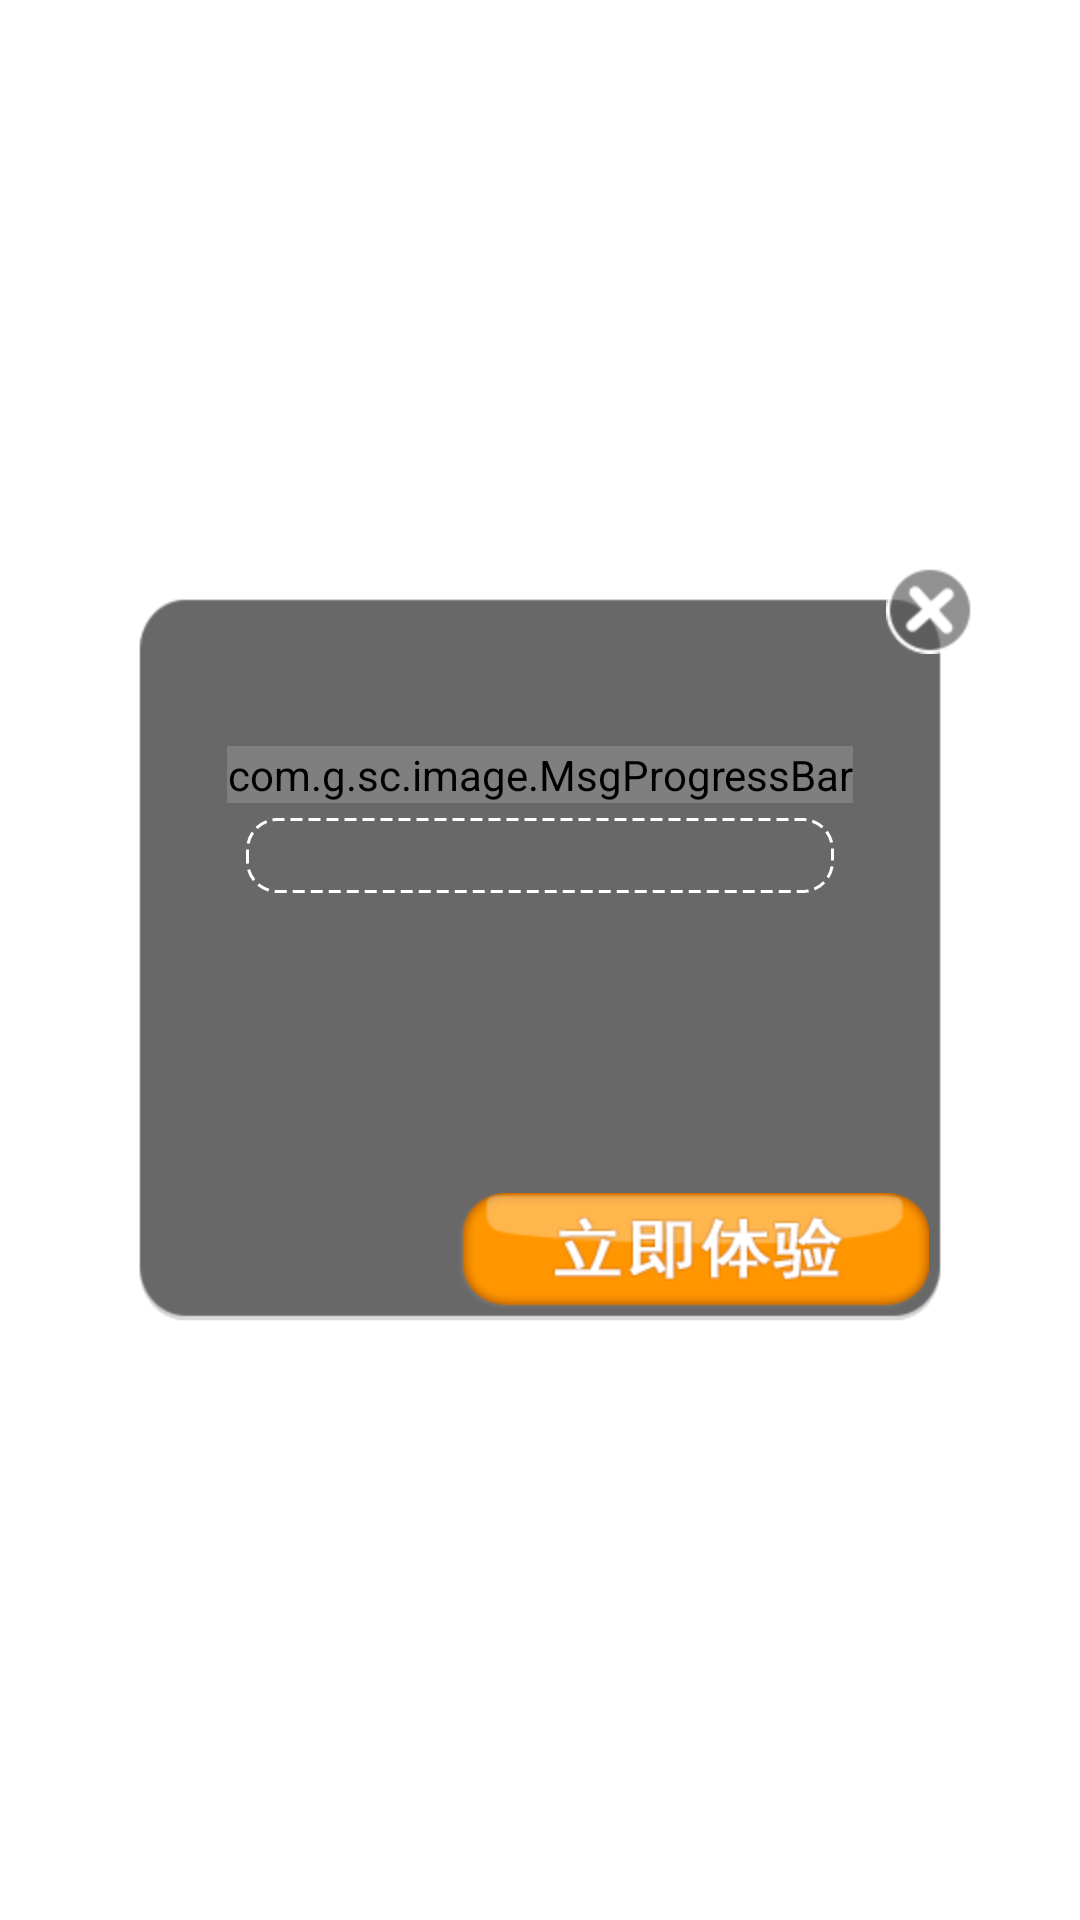

Locate icon controls on the screen. Image size 1080*1920, boxes as (x1, y1, x2, y2).
guanggao close: (889, 569, 971, 651)
